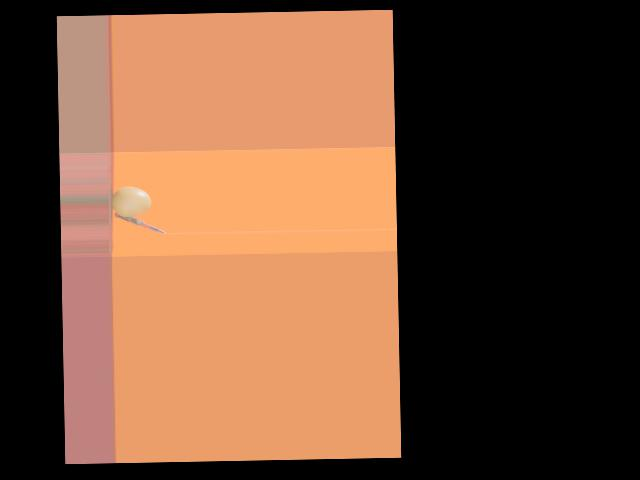egg: (111, 186, 150, 217)
